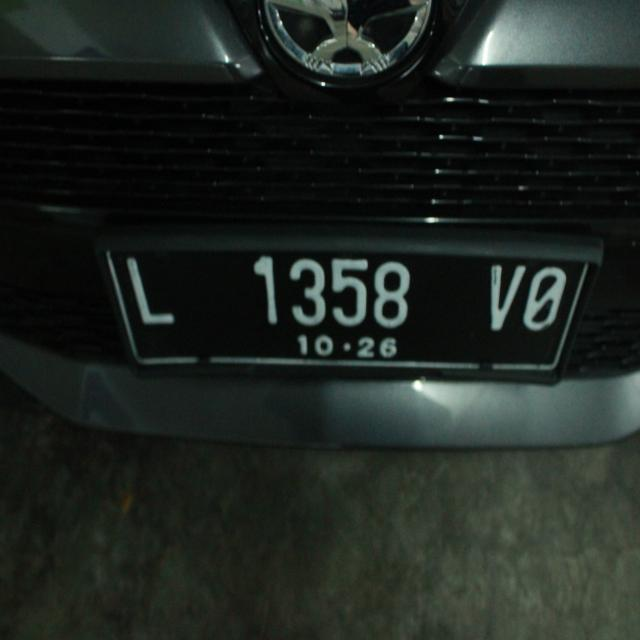1: (244, 245, 290, 332)
3: (283, 249, 329, 332)
5: (327, 244, 373, 332)
8: (373, 252, 416, 344)
L: (118, 246, 181, 334)
O: (519, 252, 566, 348)
V: (483, 246, 526, 346)
